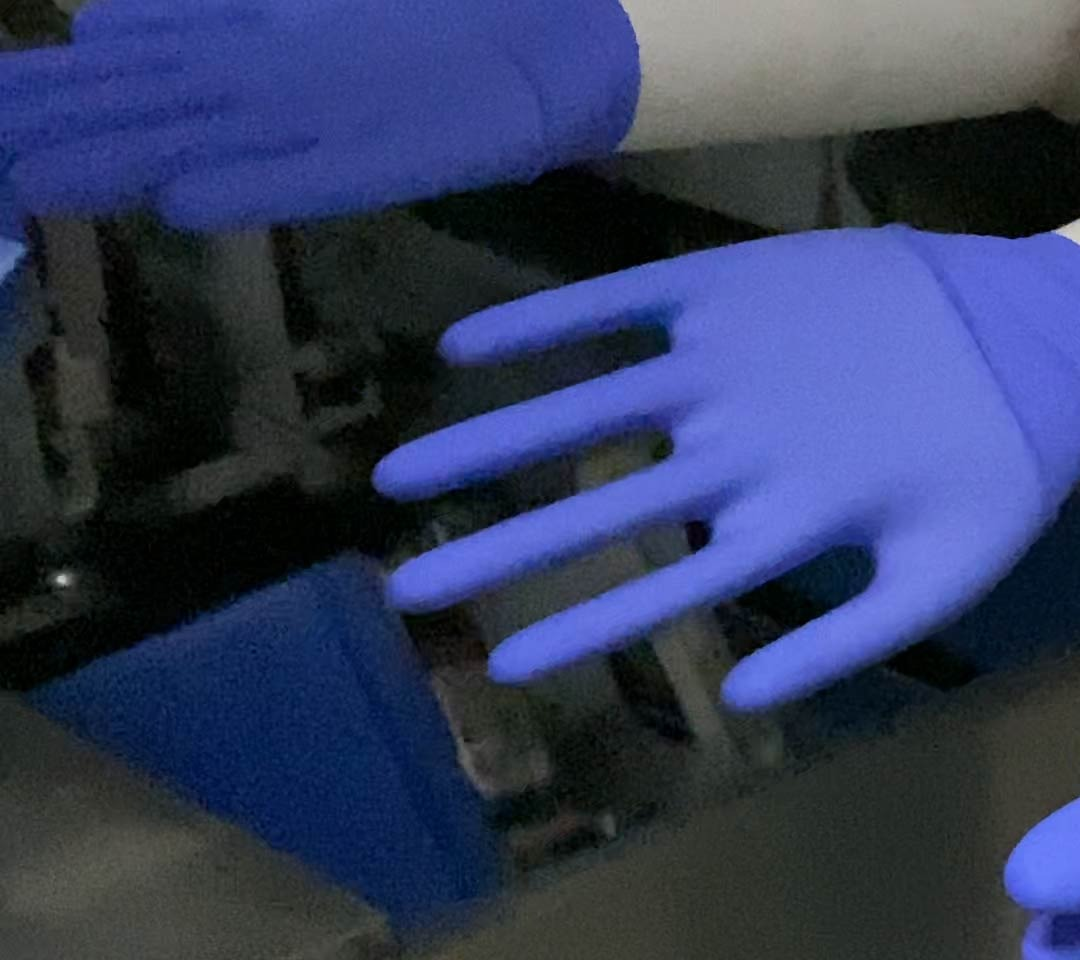glove: (361, 216, 1080, 709), (1, 1, 646, 236)
